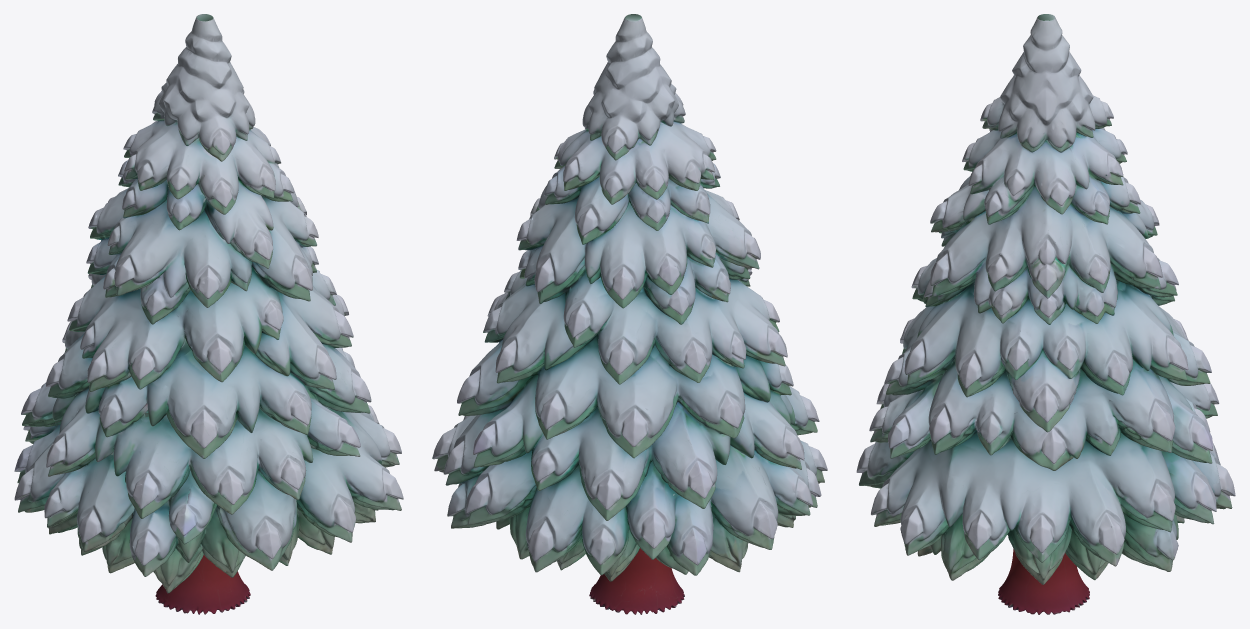
The model's file is cay_1.glb.
3 renders of one model, left to right at view 1: azimuth 30°, elevation 25°; view 2: azimuth 150°, elevation 25°; view 3: azimuth 270°, elevation 25°, orthographic.
Visible parts, largest first — view 1: texture_pbr_v128; view 2: texture_pbr_v128; view 3: texture_pbr_v128.
Boxes of the visible parts, x1,y1,x2,y2 form: texture_pbr_v128: (14, 14, 403, 614); texture_pbr_v128: (432, 14, 827, 614); texture_pbr_v128: (856, 14, 1235, 614).
Size of the model in its own units: 0.737 by 1.19 by 0.7057.
Materials: 1 (1 with a texture image).
